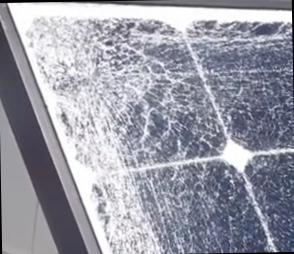Crack: (22, 6, 191, 144)
